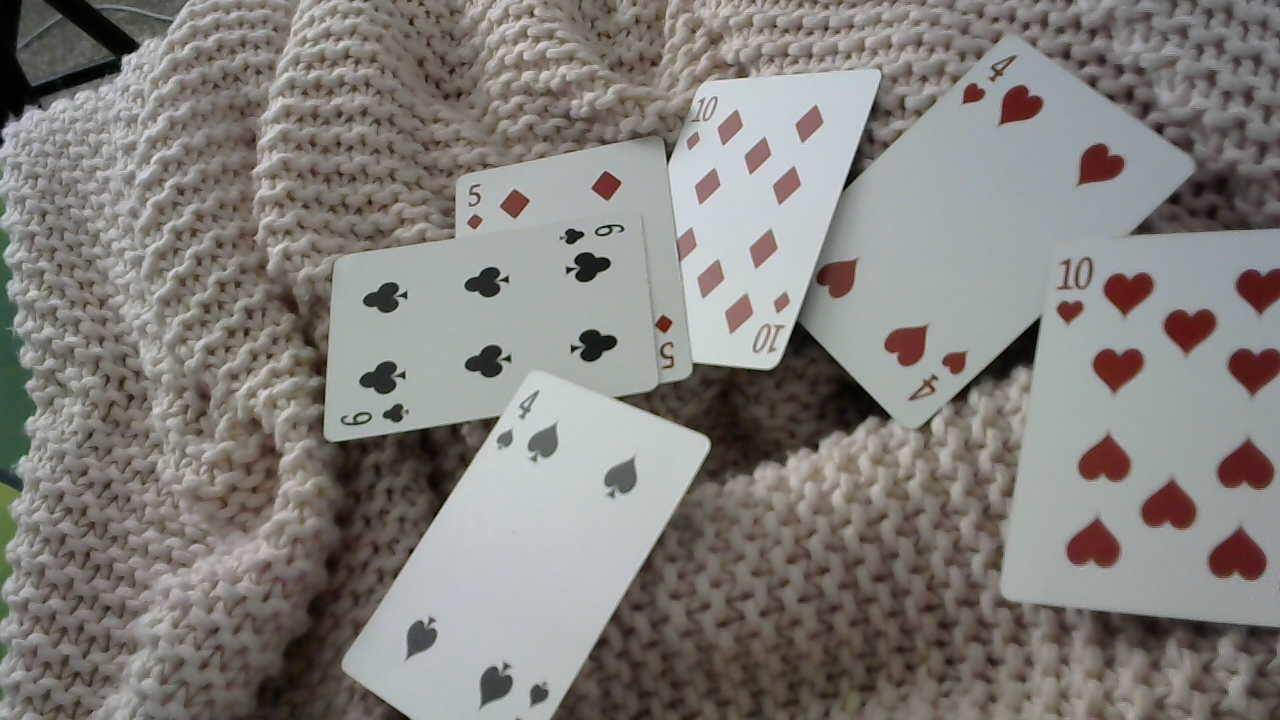10D: (748, 284, 793, 361), (678, 89, 720, 155)
10H: (1053, 250, 1094, 330)
4H: (958, 40, 1020, 113), (905, 344, 972, 406)
4S: (493, 385, 543, 457)
5D: (648, 310, 679, 377), (459, 180, 492, 232)
6C: (337, 400, 417, 431), (555, 219, 627, 250)
